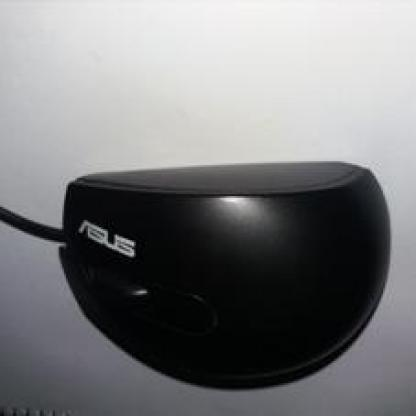mouse: (39, 130, 414, 414)
